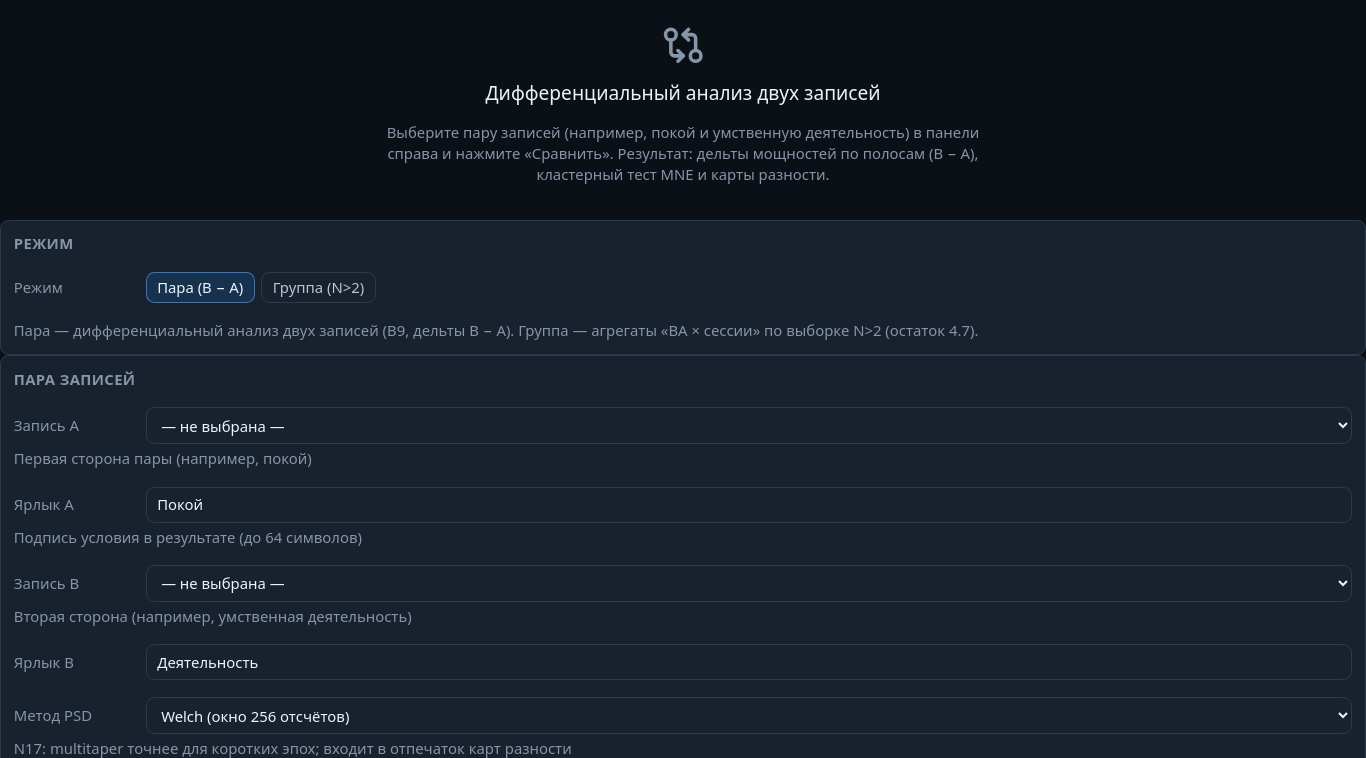
it: режим «Группа (N>2)» › история: кнопка «Обновить» даёт список, клик — свежий пересчёт прогона
Click the button "Группа (N>2)".
click(318, 287)  # box [261,272,376,303]
(page scrolled)
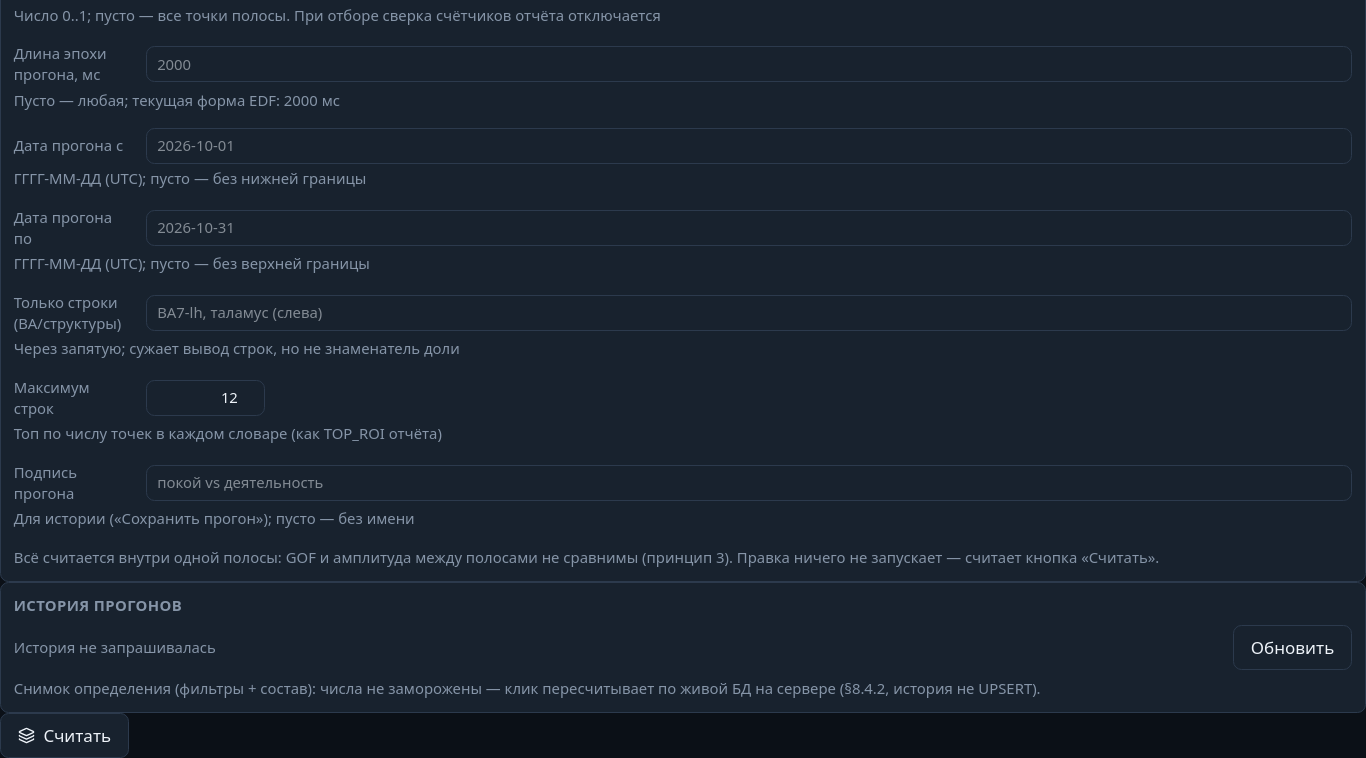
Click the button with test id "group-history-reload".
click(1293, 647)  # box [1233,625,1352,670]
(page scrolled)
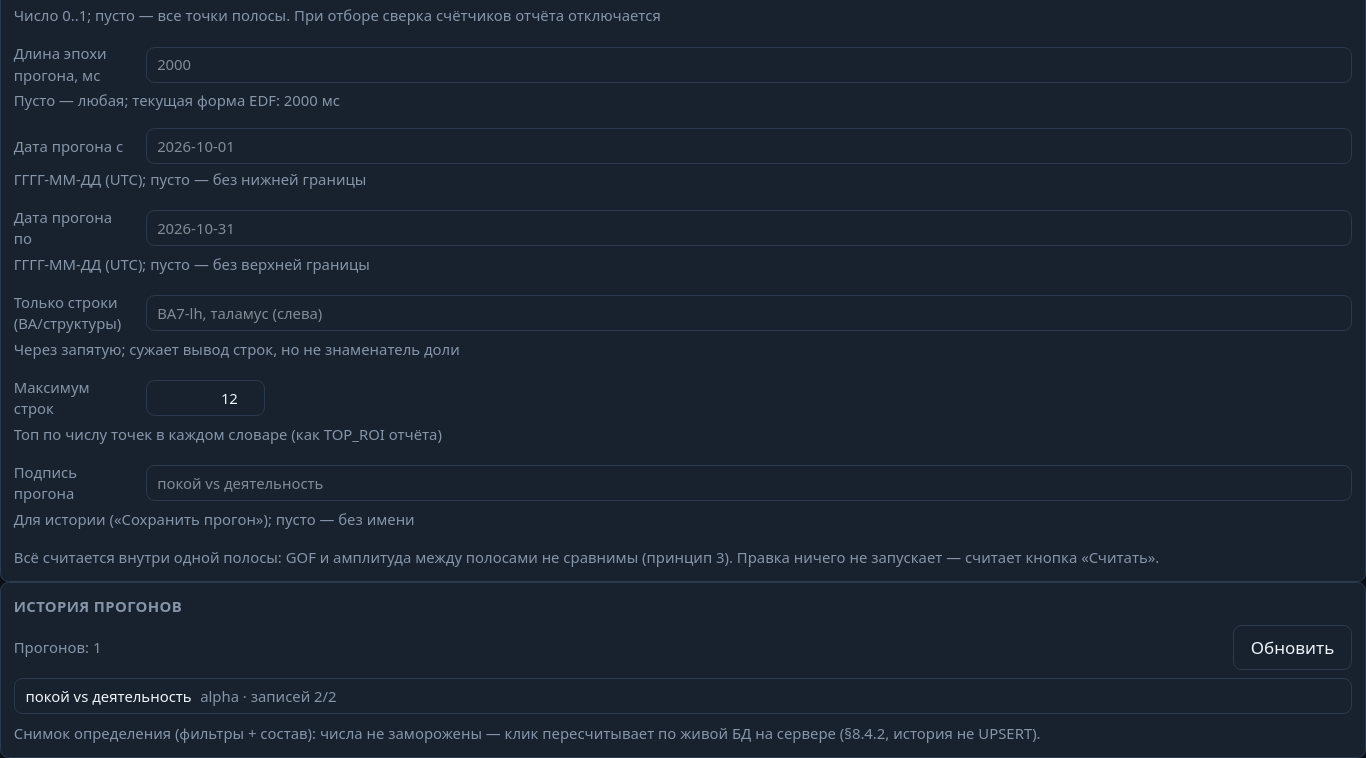
Expected: the button with test id "group-history-run-7" shows "покой vs деятельность"
Click the button with test id "group-history-run-7".
click(109, 696)  # box [14,678,1352,714]
(page scrolled)
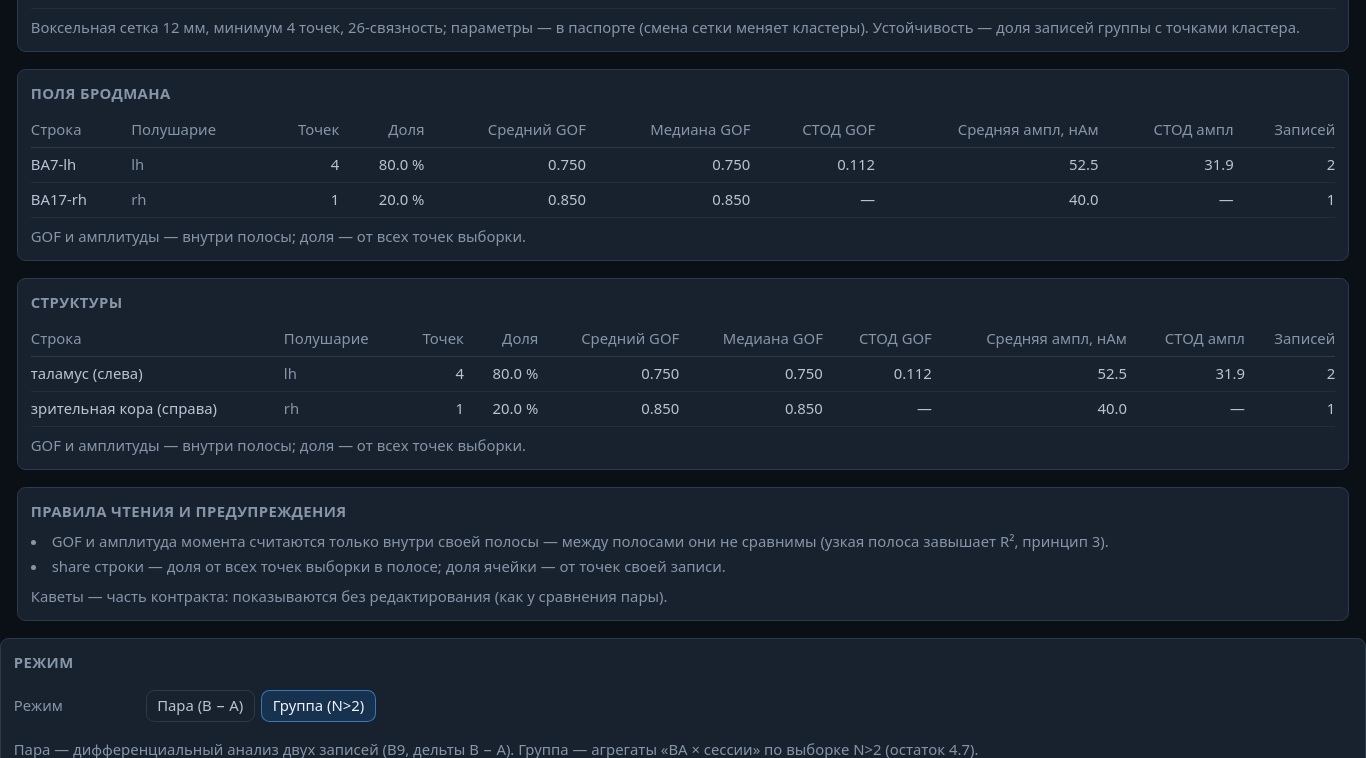
Expected: the table with test id "group-table-structures" shows "таламус (слева)", [31,363,143,383]
